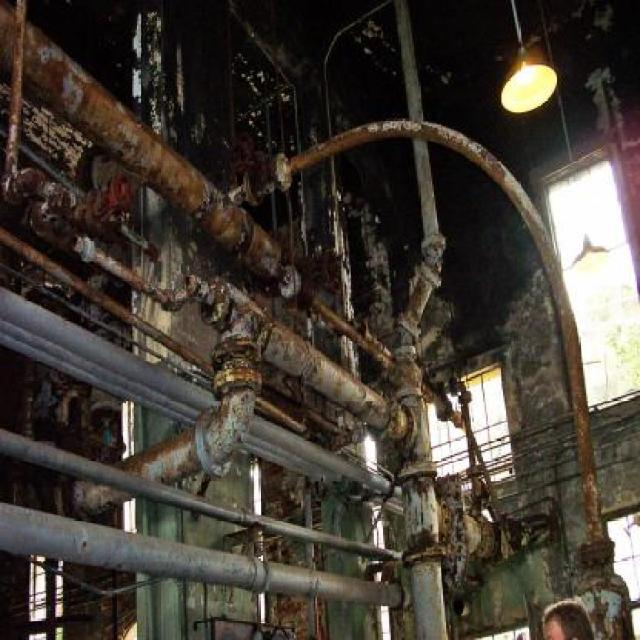corrosion: (7, 18, 604, 632)
